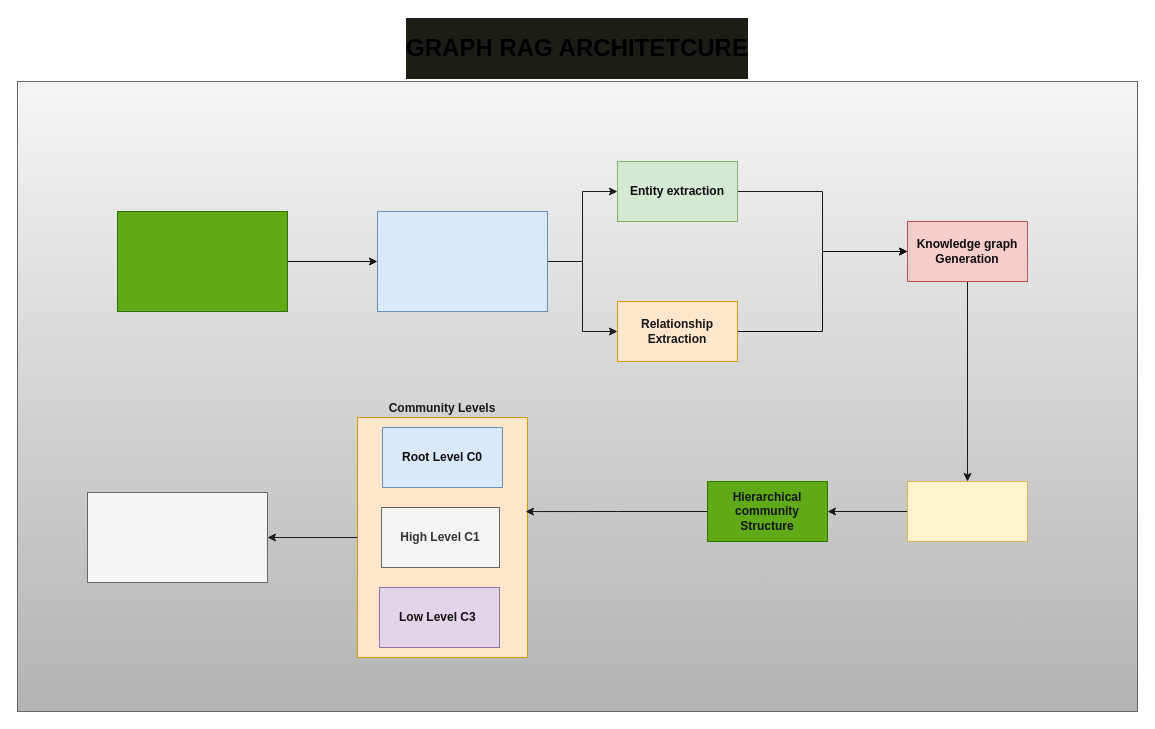
Image size: 1155x729. Some labels were removed from this diagram. The shapes that lost their labels are listed below. From the top down, each one's centre as x and y in pixels, then its label:
the point at 202,261: source documents
the point at 462,261: Text Chunking
the point at 967,511: Community Detection
the point at 177,537: GENERATE COMMUNITY SERVICES
